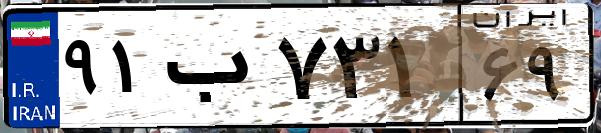1: (385, 28, 445, 110), (110, 28, 158, 98)
3: (330, 28, 385, 110)
6: (475, 38, 525, 113)
7: (270, 28, 330, 110)
9: (57, 26, 110, 100), (525, 38, 570, 115)
ب: (158, 20, 270, 120)
